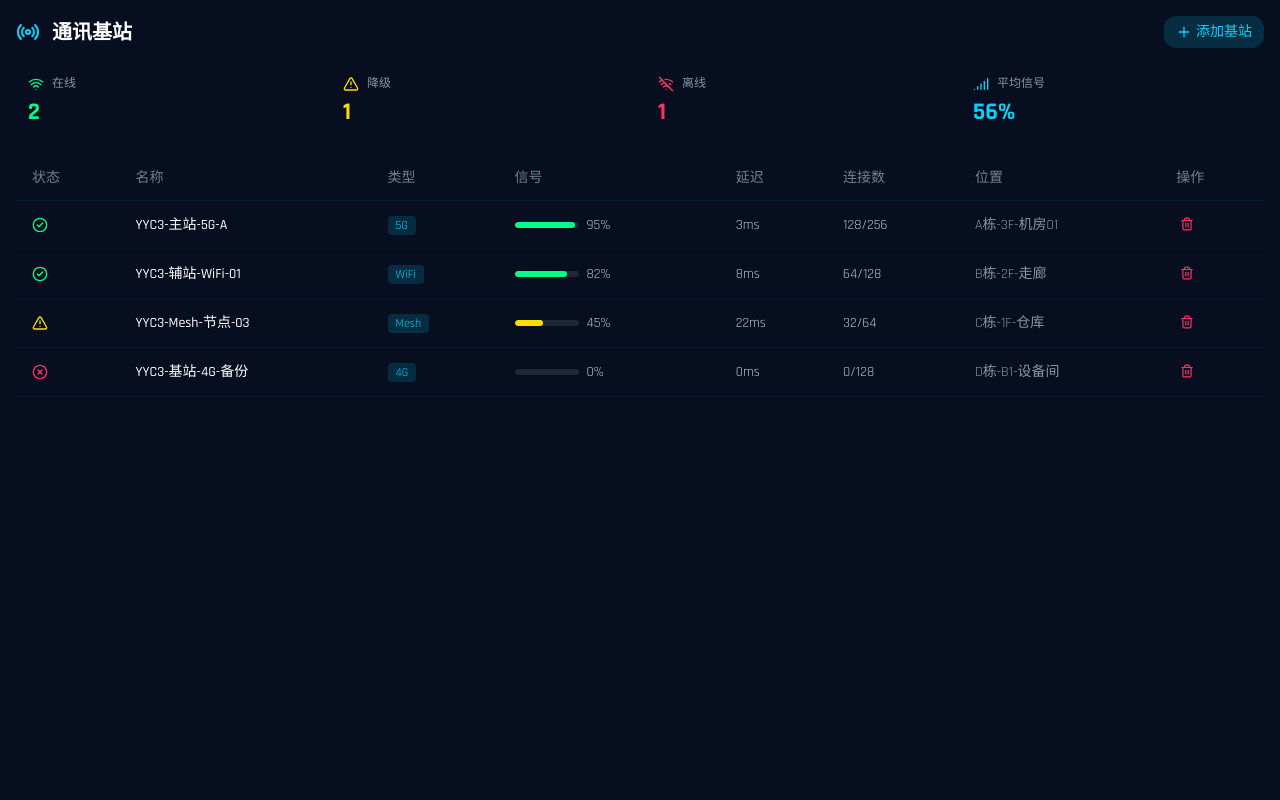
Test: CommStationPanel › 添加基站 › add button shows add form
What coordinates should you click on to do the following:
click the button "添加基站"
I would click on:
 (1214, 32)
Its box is [1164,16,1264,48].
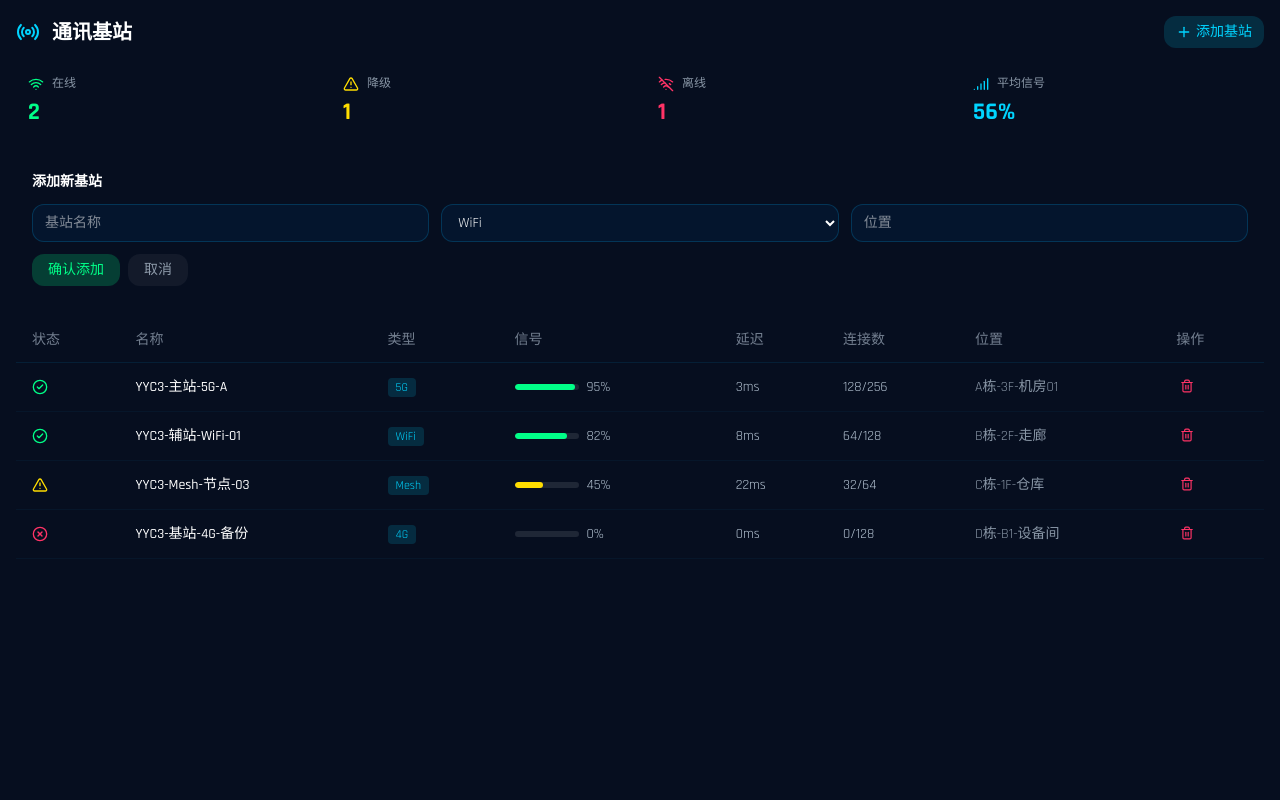
expect the heading "添加新基站" is shown: met, box [32,173,102,191]
